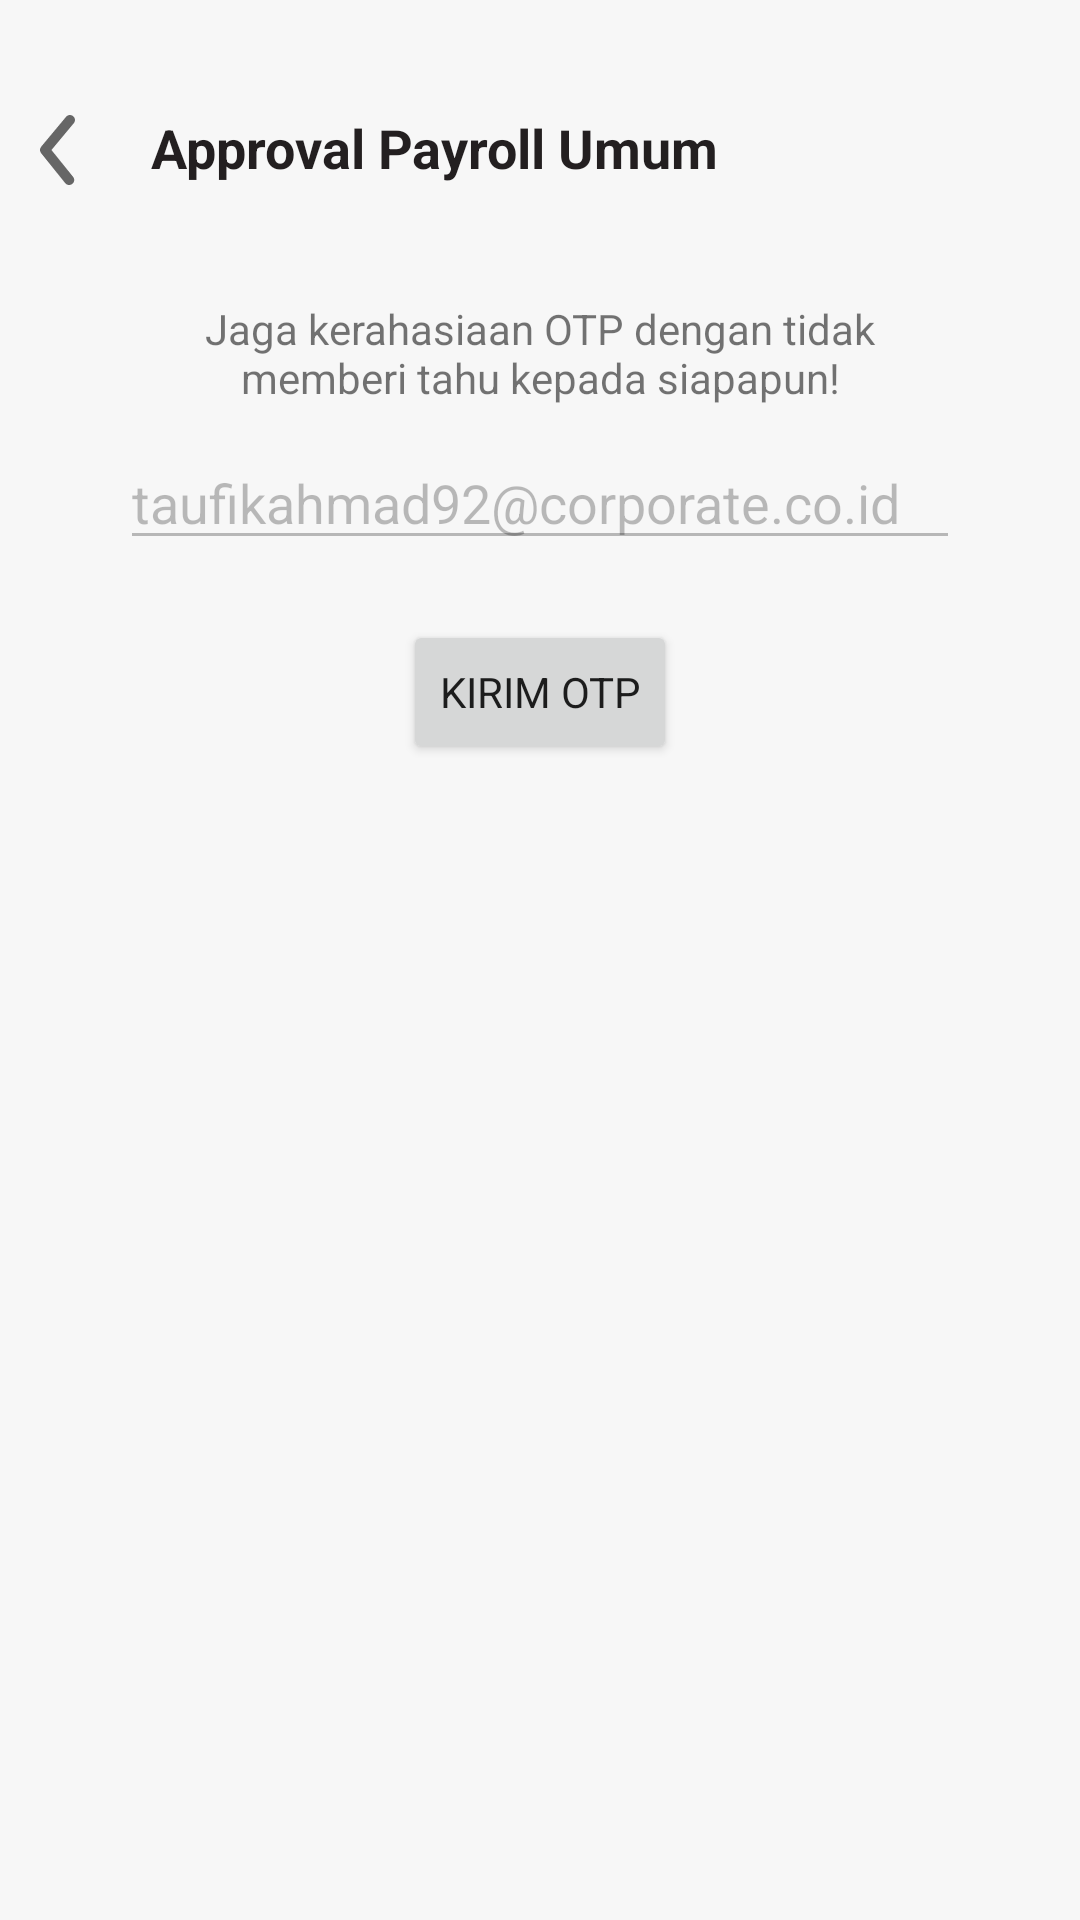

Point at icon controls on the screen. Image size 1080*1920, points as point (x, y).
back arrow: point (57, 150)
